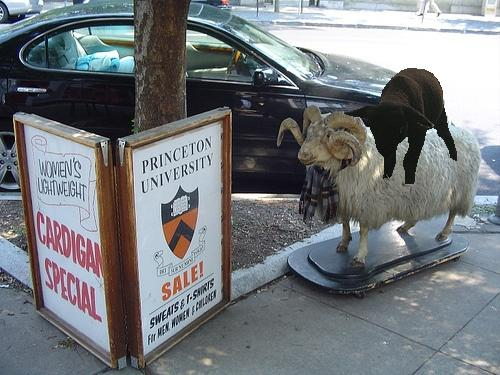tampered: (345, 69, 457, 184)
